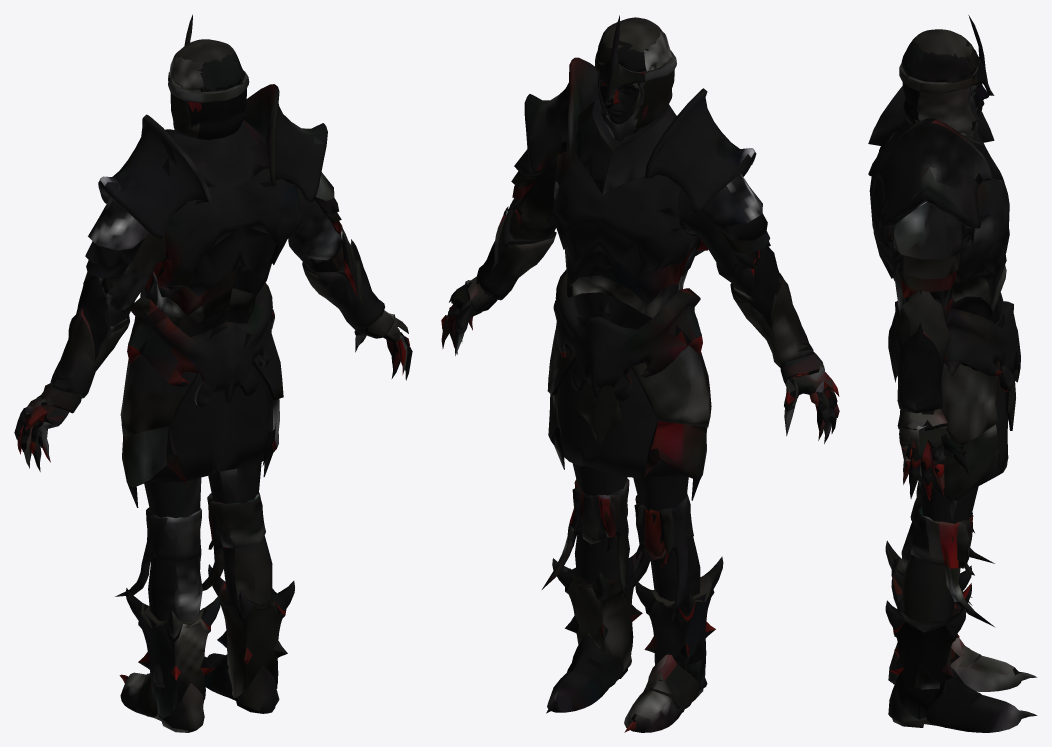
3 views of the same model, side by side, from view 1: azimuth 30°, elevation 25°; view 2: azimuth 150°, elevation 25°; view 3: azimuth 270°, elevation 25° (orthographic).
Visible parts, largest first — view 1: mesh_0; view 2: mesh_0; view 3: mesh_0.
Boxes of the visible parts, x1=… form: mesh_0: x1=14, y1=14, x2=412, y2=732; mesh_0: x1=441, y1=15, x2=839, y2=732; mesh_0: x1=868, y1=15, x2=1037, y2=732.
Size of the model in its own units: 43.59 by 73.76 by 16.43.
Materials: 1 (1 with a texture image).
